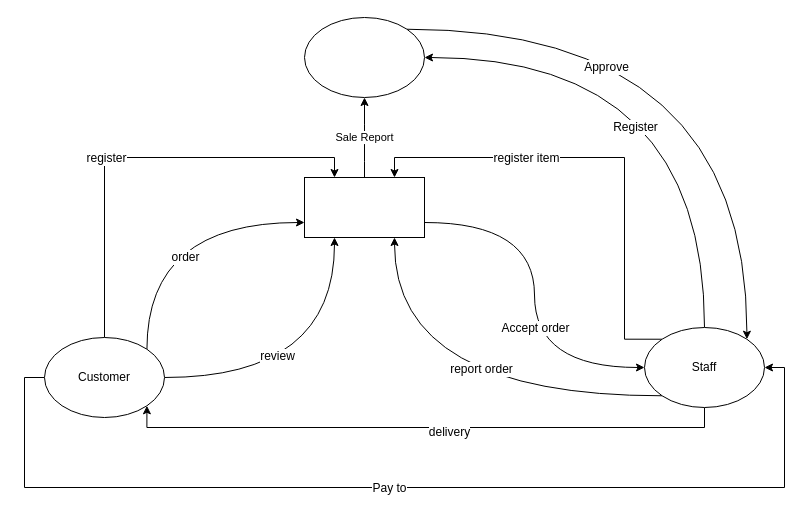
This 810x513 diagram has some shape labels left out. Each missing label, with the box of its shape:
Admin: (304, 16, 424, 98)
Online Shopping System in UTeM: (304, 176, 424, 238)
